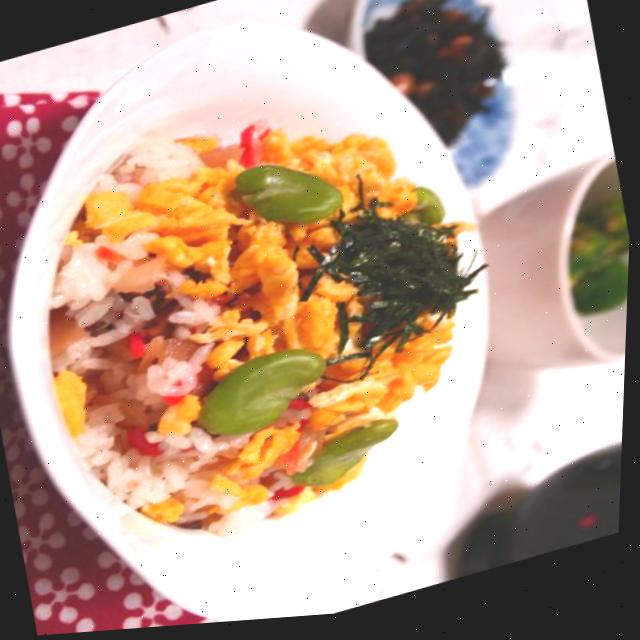寿司卷物: (3, 52, 521, 599)
